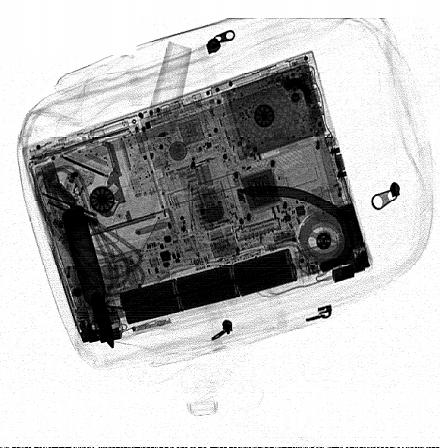Bullet: (61, 203, 115, 352)
